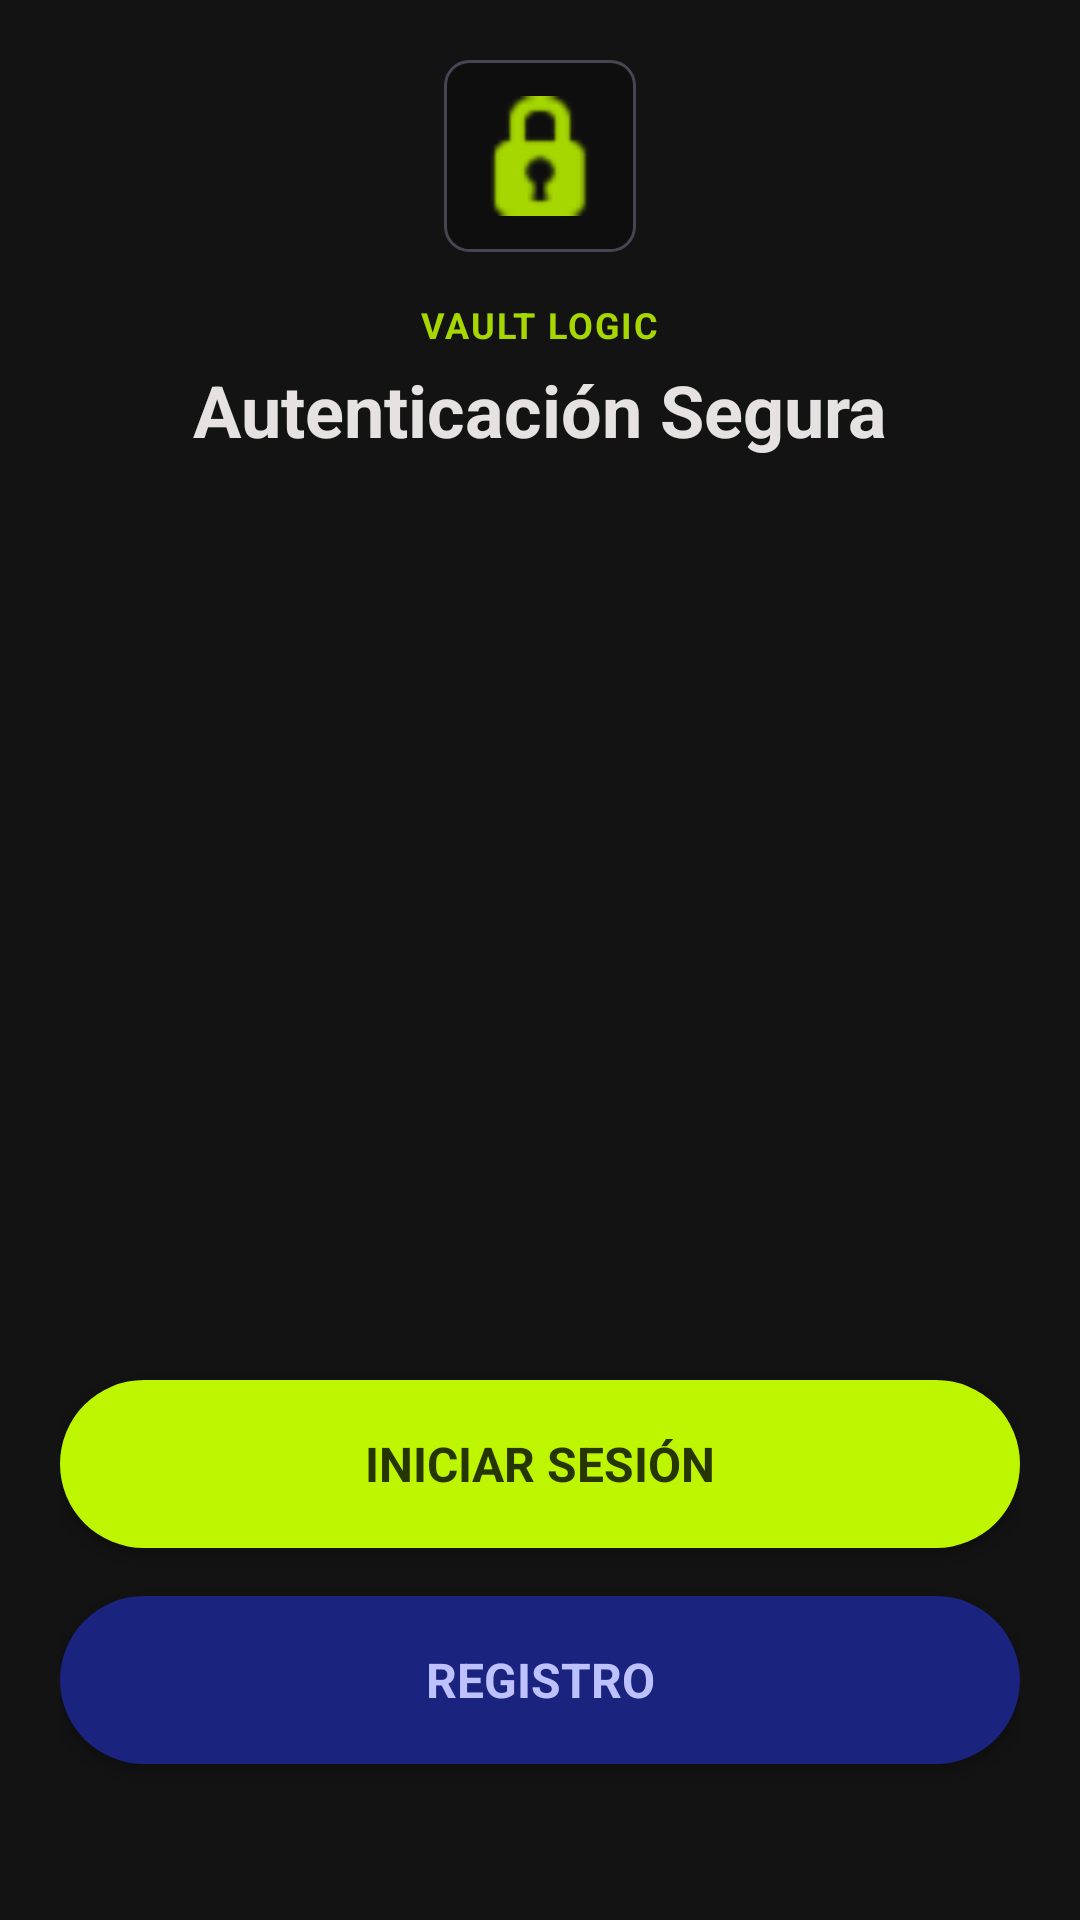

Named icons in this screenshot (1080 x 1920) and their centers, (x,y):
secure: (540,156)
